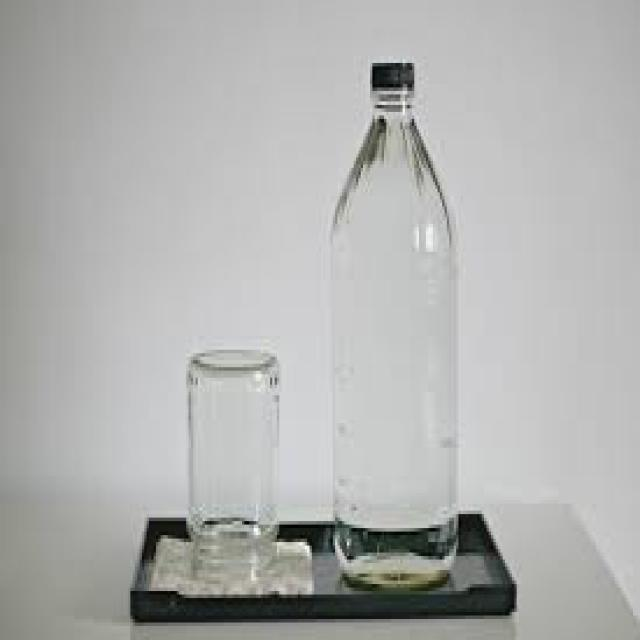Dry Waste: (326, 57, 459, 588), (184, 348, 283, 571)
